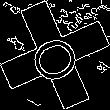O_NE: (23, 25, 87, 85)
